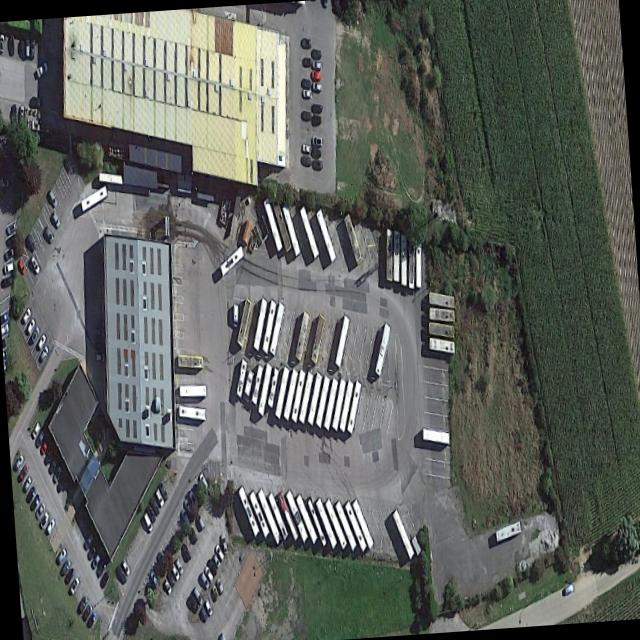large-vehicle: (257, 489, 280, 545), (285, 490, 307, 543), (351, 499, 373, 552), (391, 509, 413, 562), (324, 498, 346, 550), (270, 197, 290, 253), (276, 492, 298, 542), (344, 502, 366, 552), (315, 209, 335, 264), (315, 498, 336, 550), (280, 201, 299, 258), (298, 206, 318, 260), (334, 501, 355, 552), (237, 486, 258, 537), (262, 196, 281, 252), (305, 497, 326, 547), (295, 494, 316, 544), (343, 213, 362, 265), (267, 492, 287, 540), (248, 491, 268, 539), (373, 322, 389, 377), (289, 369, 305, 423), (306, 371, 321, 427), (314, 374, 329, 430), (322, 376, 337, 432), (338, 378, 353, 434), (268, 301, 283, 357), (273, 365, 288, 420), (334, 314, 349, 369), (282, 367, 297, 421), (297, 371, 312, 425), (261, 298, 275, 355), (346, 380, 360, 436), (294, 310, 309, 362), (257, 362, 271, 417), (219, 244, 243, 276), (252, 298, 266, 352), (309, 314, 324, 364), (236, 298, 251, 348), (80, 184, 106, 212), (250, 362, 262, 406), (494, 523, 520, 543), (266, 366, 278, 408), (235, 359, 246, 400), (428, 292, 453, 309), (428, 321, 453, 338), (241, 370, 253, 403), (178, 406, 206, 420), (422, 430, 448, 445), (428, 338, 453, 353), (392, 230, 399, 282), (385, 228, 392, 280), (428, 308, 454, 322), (179, 385, 206, 397), (178, 356, 202, 369), (400, 235, 406, 286), (97, 172, 122, 184), (414, 240, 420, 289), (408, 239, 413, 289)
small-vehicle: (75, 590, 88, 615), (62, 564, 75, 588), (156, 478, 168, 503), (27, 492, 40, 514), (141, 510, 153, 533), (32, 428, 44, 451), (42, 222, 53, 247), (84, 610, 97, 631), (34, 60, 47, 81), (25, 230, 36, 254), (148, 493, 159, 517), (43, 515, 55, 537), (24, 484, 35, 508), (51, 463, 63, 485), (80, 602, 93, 622), (29, 253, 40, 276), (116, 563, 127, 586), (95, 556, 106, 579), (82, 530, 93, 553), (187, 488, 198, 511), (42, 445, 53, 468), (202, 564, 214, 585), (12, 452, 24, 473), (218, 531, 228, 556), (49, 207, 60, 229), (172, 555, 183, 577), (153, 486, 164, 508), (119, 556, 130, 578), (198, 569, 209, 591), (191, 584, 202, 606), (46, 187, 57, 209), (38, 509, 49, 531), (35, 332, 46, 353), (20, 306, 31, 327), (168, 561, 179, 582), (180, 541, 191, 562), (68, 576, 79, 597), (4, 219, 16, 238), (59, 558, 71, 577), (55, 546, 67, 565), (28, 324, 39, 344), (145, 503, 155, 525), (149, 569, 159, 591), (203, 596, 213, 618), (197, 470, 207, 492), (33, 501, 44, 521), (25, 315, 35, 336), (16, 257, 26, 278), (182, 498, 192, 519), (211, 551, 221, 572), (38, 345, 49, 364), (161, 577, 172, 596), (214, 544, 225, 563), (17, 463, 28, 482), (46, 458, 57, 477), (2, 260, 14, 277), (4, 233, 16, 250), (30, 420, 40, 440), (164, 569, 174, 588), (90, 552, 100, 571), (38, 437, 48, 456), (99, 569, 108, 590), (180, 507, 189, 528), (231, 302, 238, 329), (3, 245, 14, 262), (0, 275, 13, 289), (86, 543, 95, 563), (22, 475, 31, 495), (562, 582, 573, 598), (214, 576, 223, 595), (195, 510, 203, 531), (310, 113, 321, 128), (199, 606, 208, 624), (188, 524, 196, 544), (310, 102, 322, 115), (311, 135, 322, 149), (310, 68, 321, 82), (300, 36, 311, 50), (310, 48, 321, 61), (311, 58, 321, 72), (300, 76, 310, 90), (310, 147, 320, 161), (210, 584, 218, 601), (10, 104, 16, 126), (300, 110, 310, 123), (18, 39, 24, 60), (7, 35, 13, 56), (299, 155, 310, 166), (311, 81, 321, 93), (301, 142, 310, 155), (24, 39, 30, 58), (311, 161, 322, 171), (18, 105, 23, 125), (301, 57, 311, 67), (95, 352, 104, 363), (94, 327, 103, 338), (302, 88, 311, 99), (29, 41, 34, 60), (0, 33, 3, 53)
